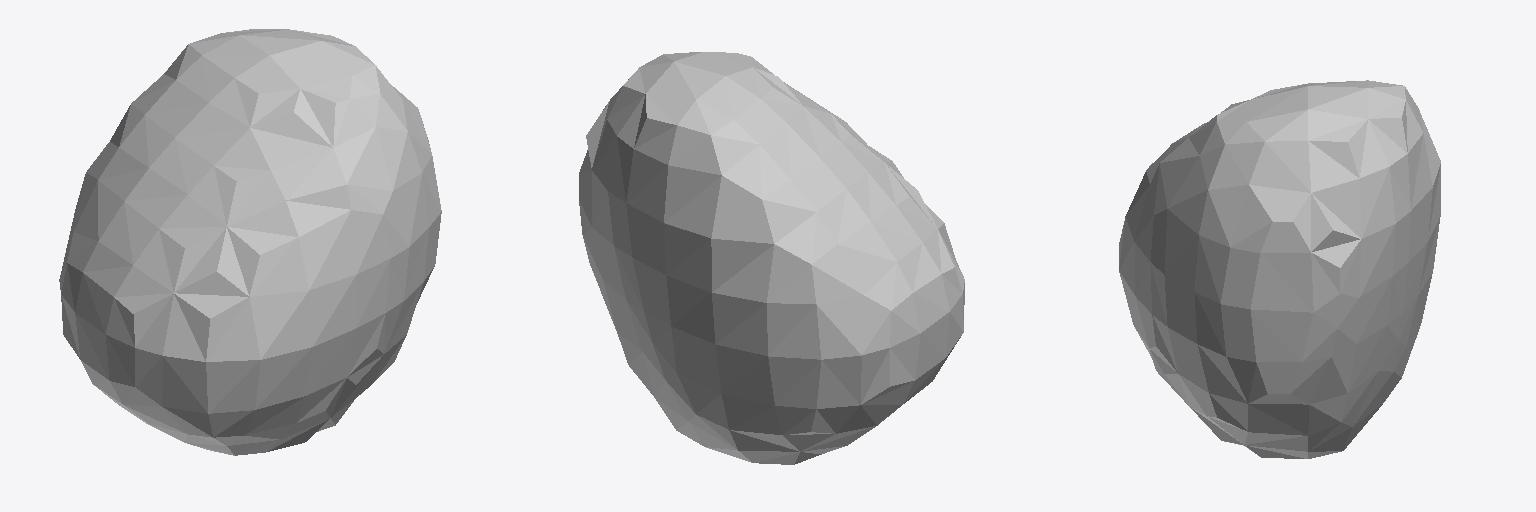
Rendered from modeloPiedras7.obj.
3 views of the same model, side by side, from view 1: azimuth 30°, elevation 25°; view 2: azimuth 150°, elevation 25°; view 3: azimuth 270°, elevation 25° (orthographic).
Bounding box in the file's own units: 1.97 × 2.09 × 1.65.